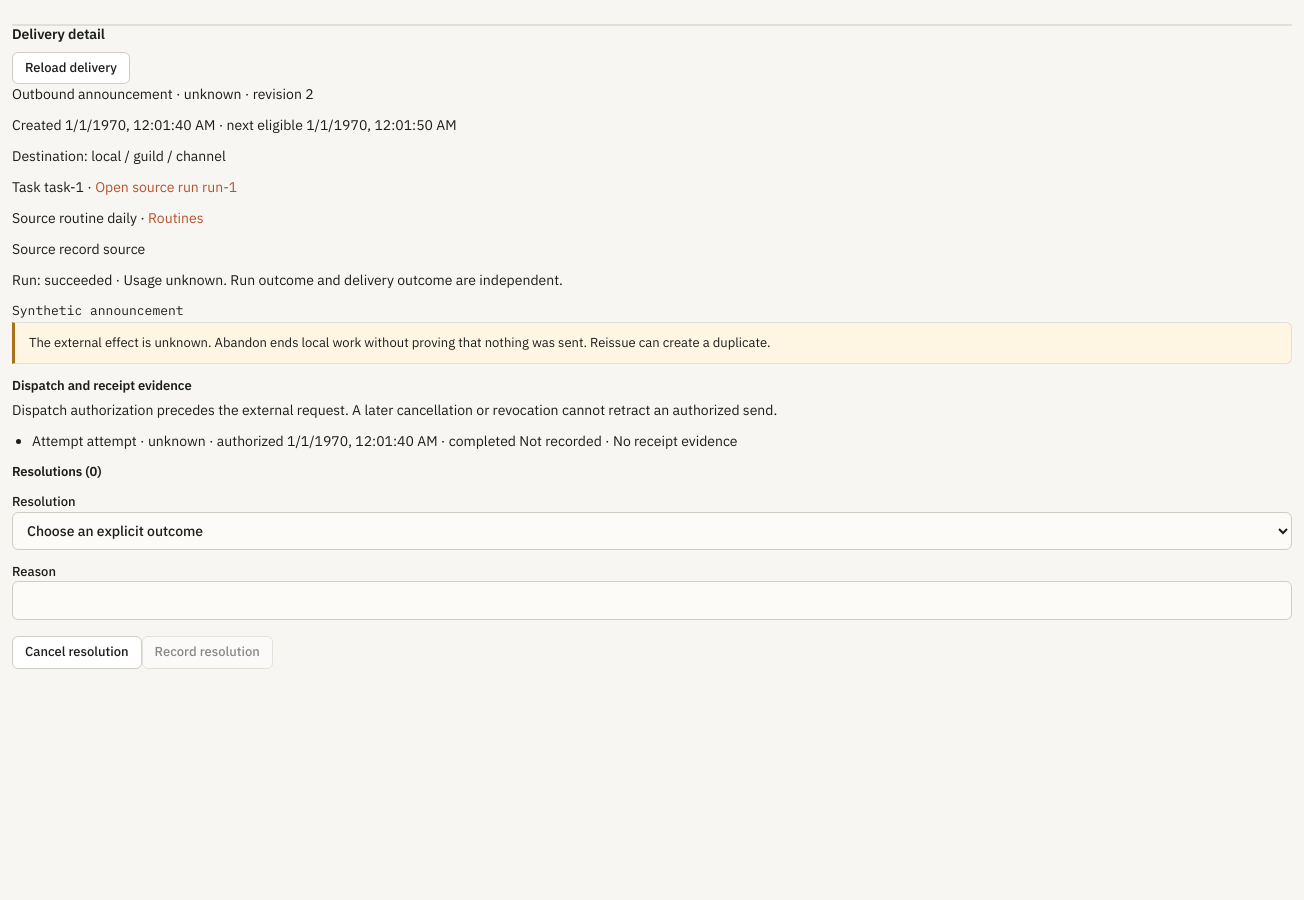
Test: keeps conflict evidence visible and offers an explicit reload
The image size is (1304, 900).
Select "Abandon local work" in the dropdown labelled "Resolution": (652, 531) 12,512 -> 1292,550
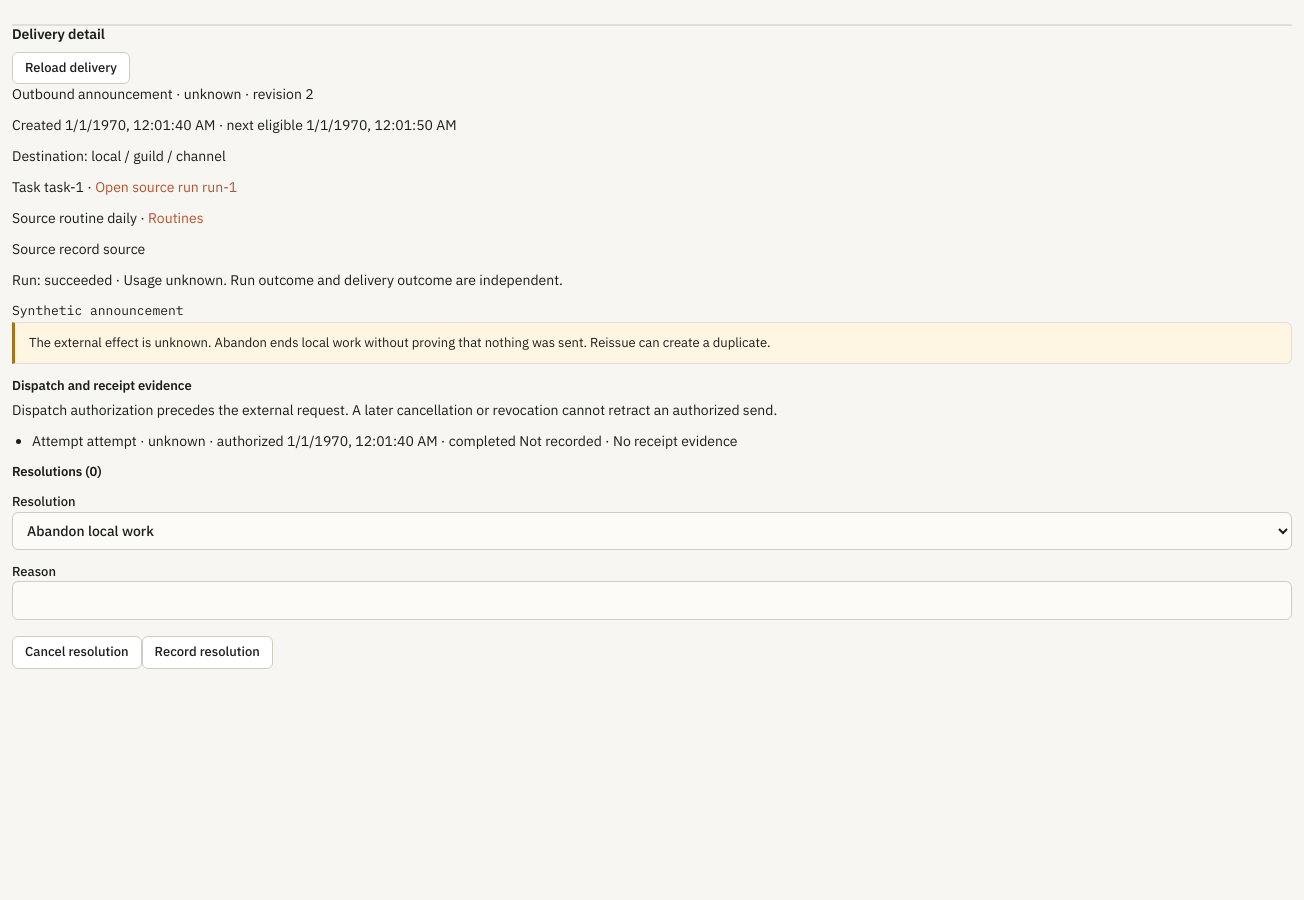
In the field labelled "Reason": (652, 601) 12,581 -> 1292,620, type "End local work"
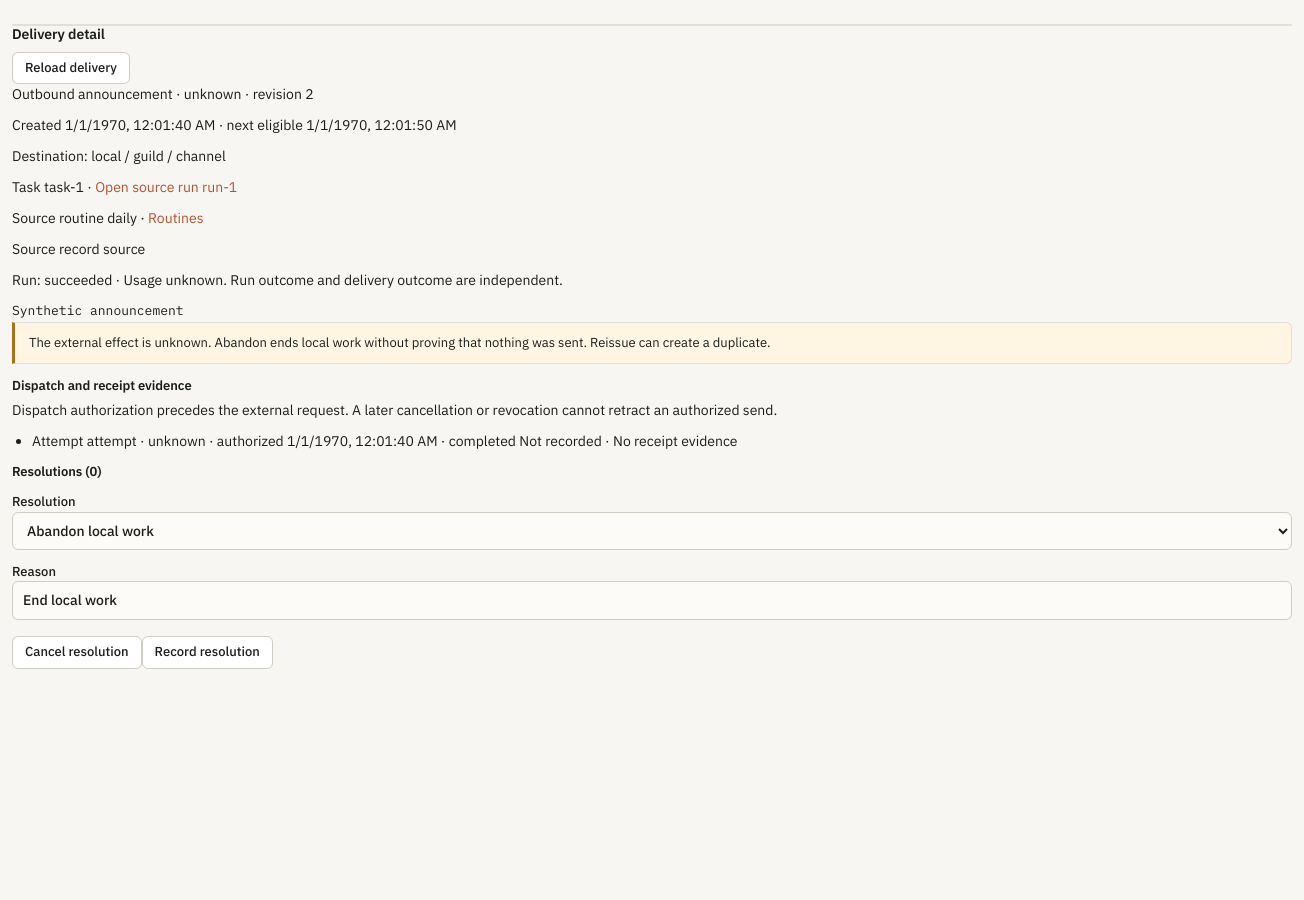
Click the button "Record resolution": (207, 653) 142,636 -> 273,669
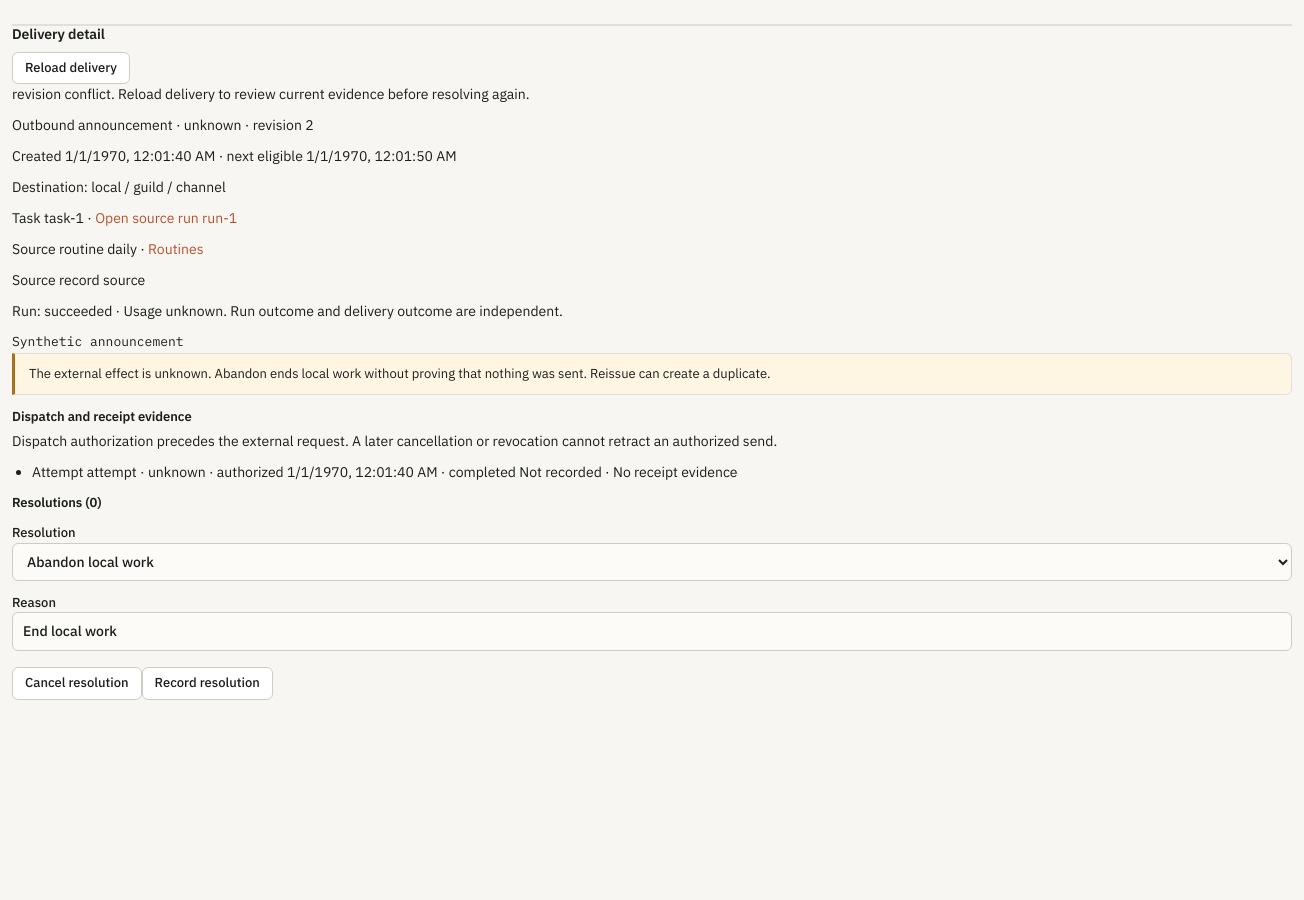
Expected: the message shows "Reload delivery", 12,85 -> 530,103
